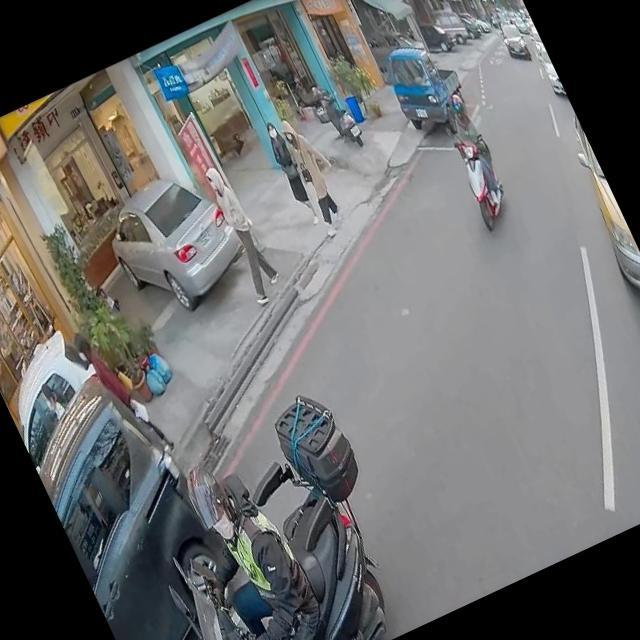person: (151, 429, 348, 640), (63, 310, 178, 477), (185, 142, 289, 308), (428, 84, 516, 218), (270, 105, 358, 234), (256, 116, 326, 228), (34, 376, 70, 426)
